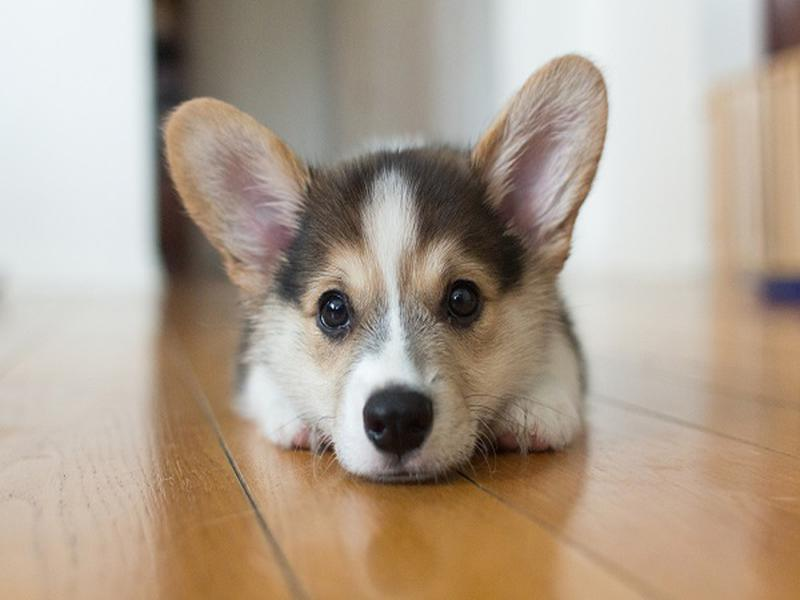corgi: (159, 54, 609, 481)
